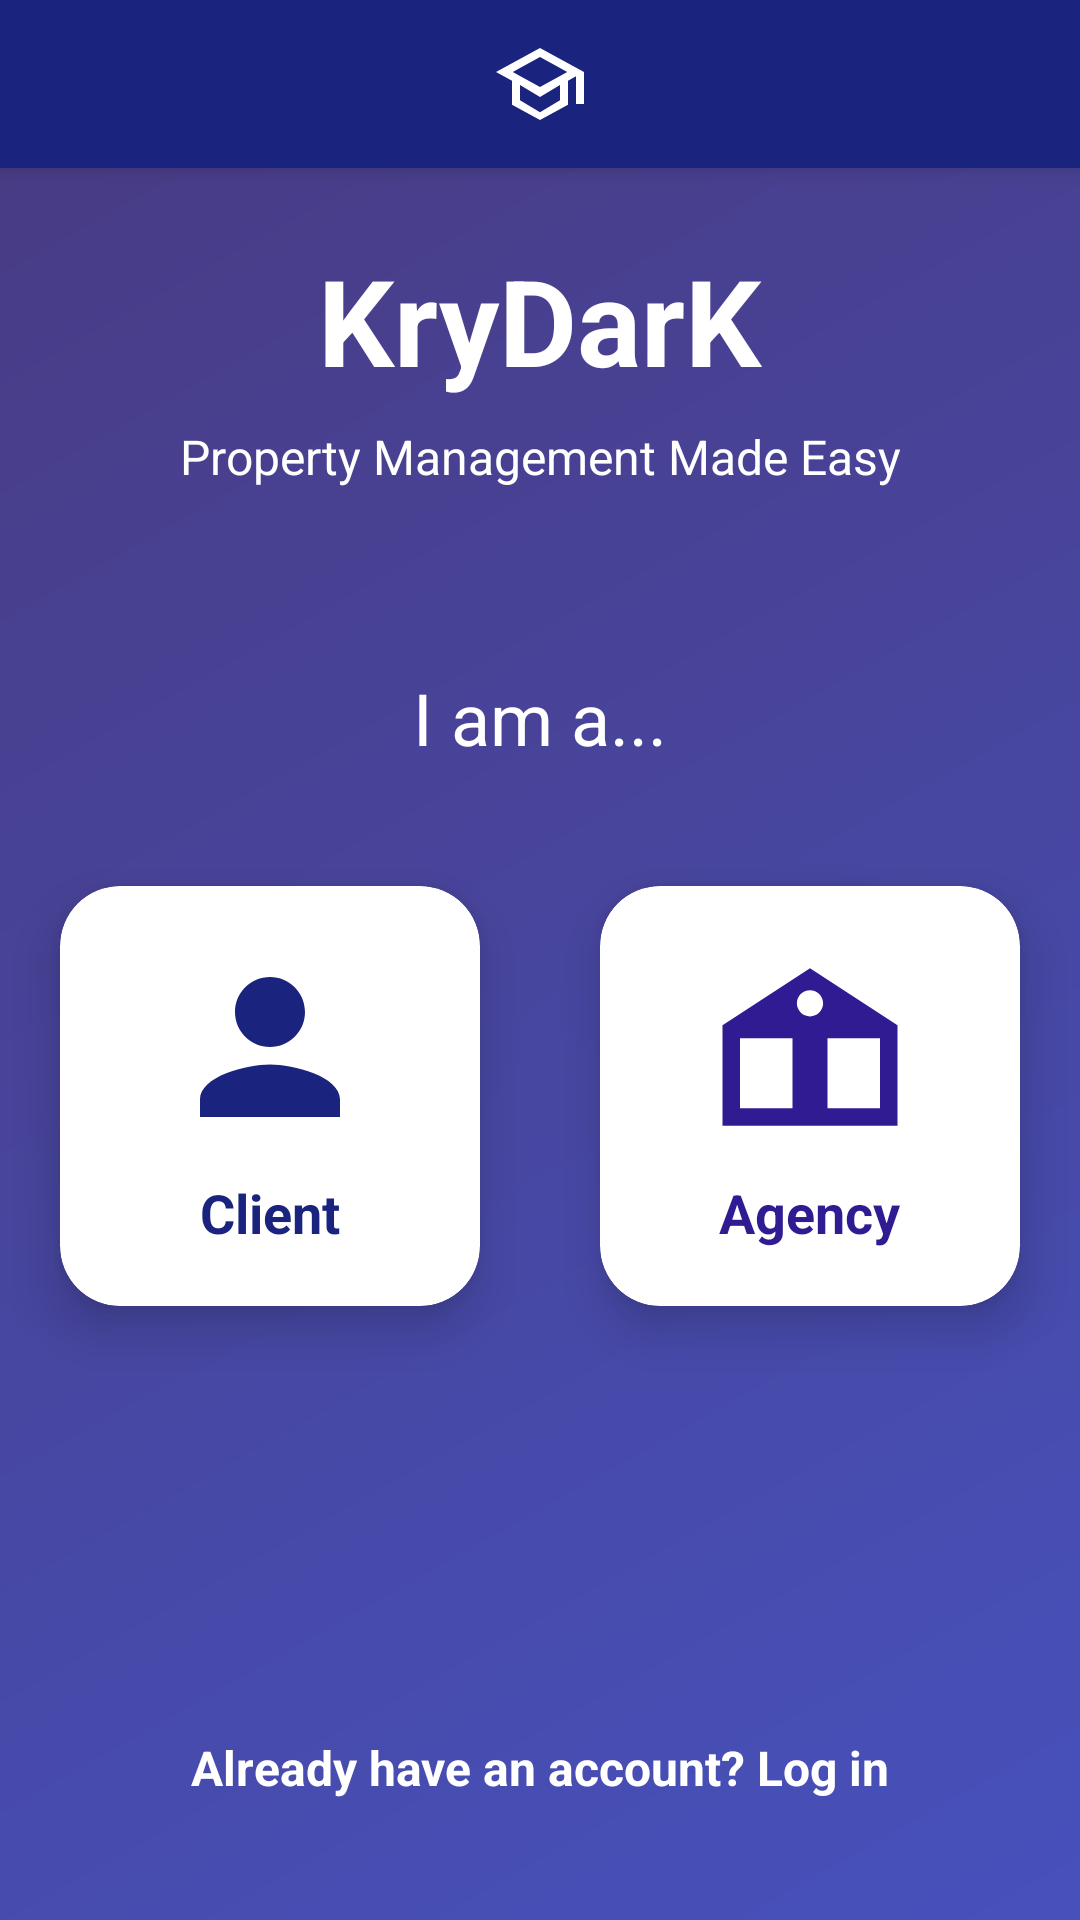

Screen size 1080*1920. Icon name, then its center in pixels as point (x, y):
user: point (270, 1047)
